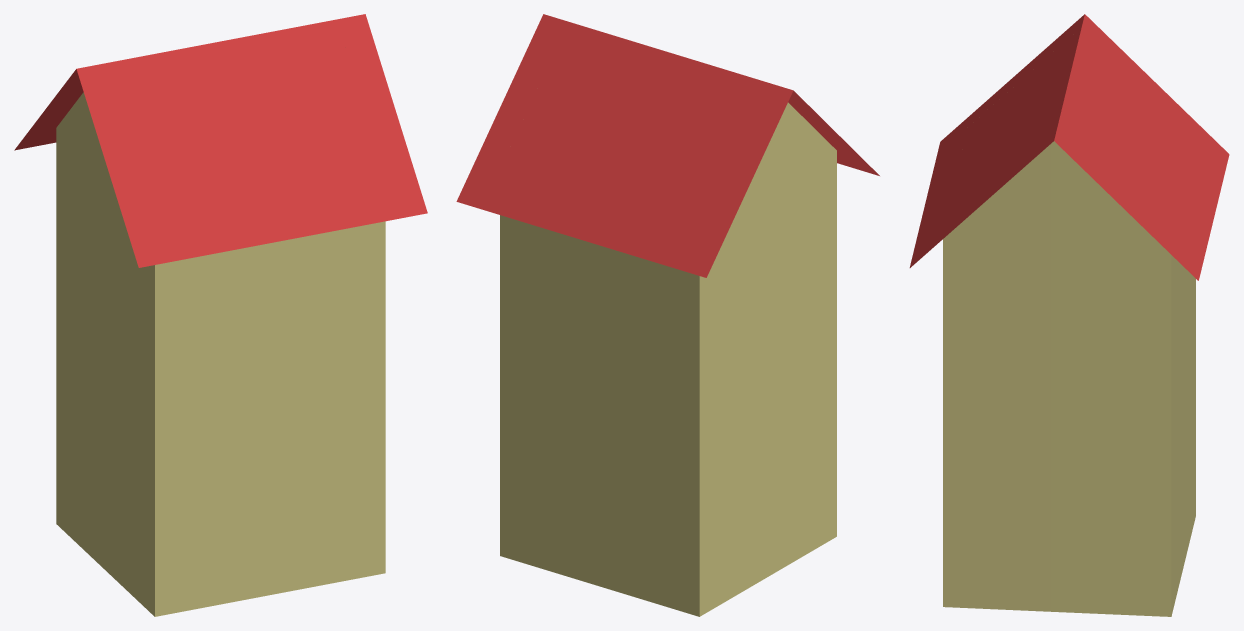
3 views of the same model, side by side, from view 1: azimuth 30°, elevation 25°; view 2: azimuth 150°, elevation 25°; view 3: azimuth 270°, elevation 25° (orthographic). The views are drawn at different scales.
Size of the model in its own units: 5.41 by 5.25 by 8.75.
